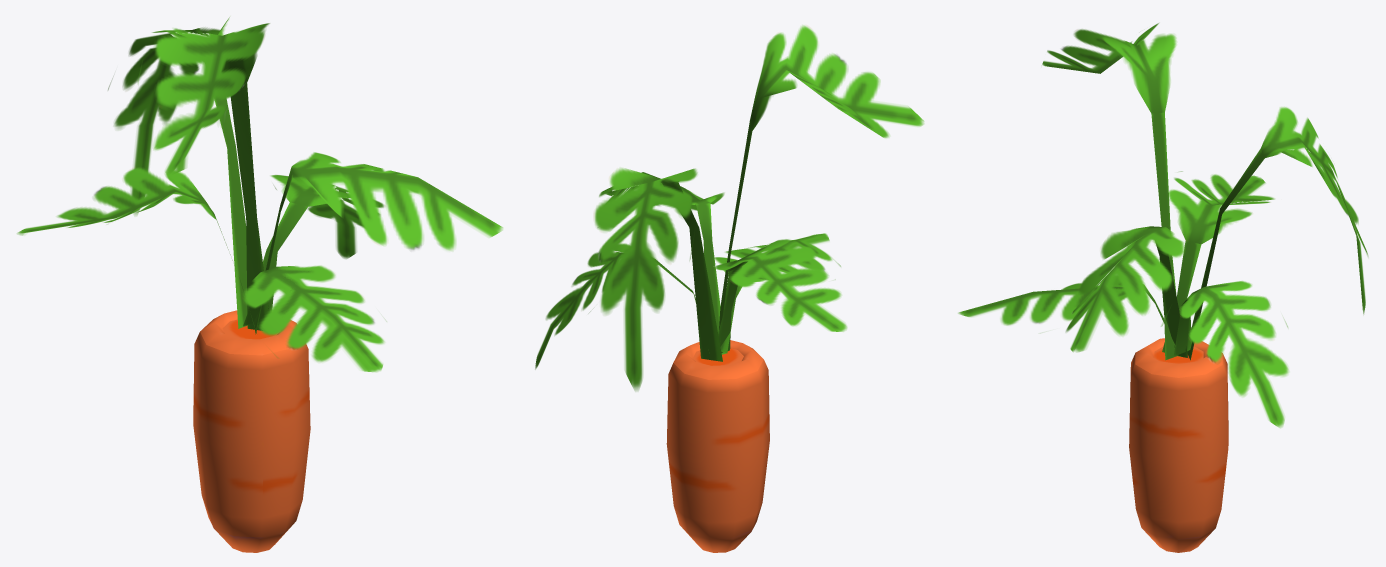
The model's file is carrot.glb.
3 renders of one model, left to right at view 1: azimuth 30°, elevation 25°; view 2: azimuth 150°, elevation 25°; view 3: azimuth 270°, elevation 25°, orthographic. The views are drawn at different scales.
Size of the model in its own units: 9.3 by 13.18 by 9.81.
Materials: 1 (1 with a texture image).
